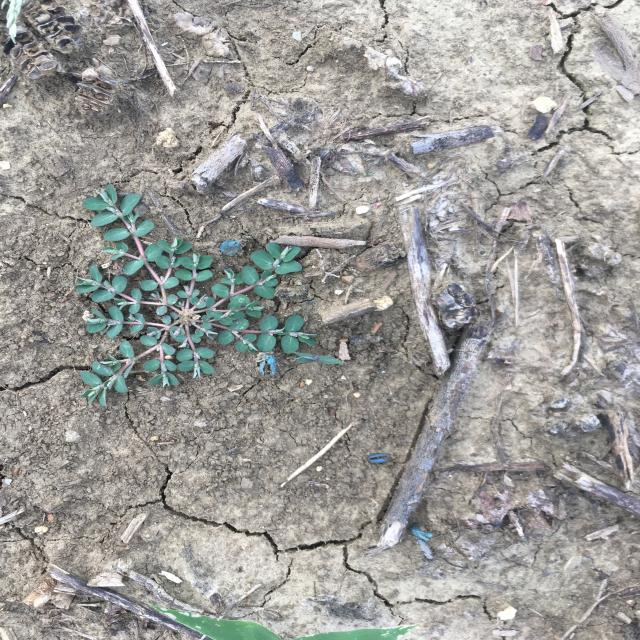SpottedSpurge: (71, 182, 351, 407)
